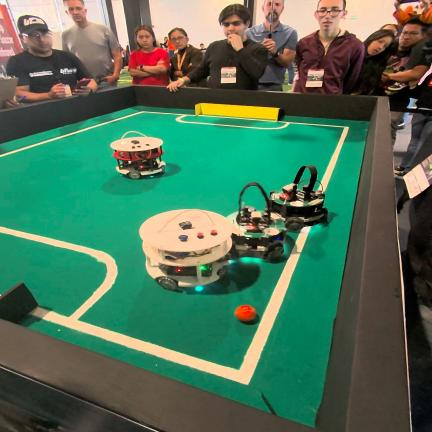cancha: (0, 106, 368, 425)
limites: (0, 227, 310, 385), (206, 121, 349, 190), (0, 111, 200, 158), (202, 115, 271, 123)
pelota: (235, 305, 256, 322)
porteria: (195, 103, 285, 121), (0, 282, 38, 324)
robot: (139, 209, 233, 292), (227, 182, 286, 261), (269, 165, 328, 231), (111, 131, 165, 179)
